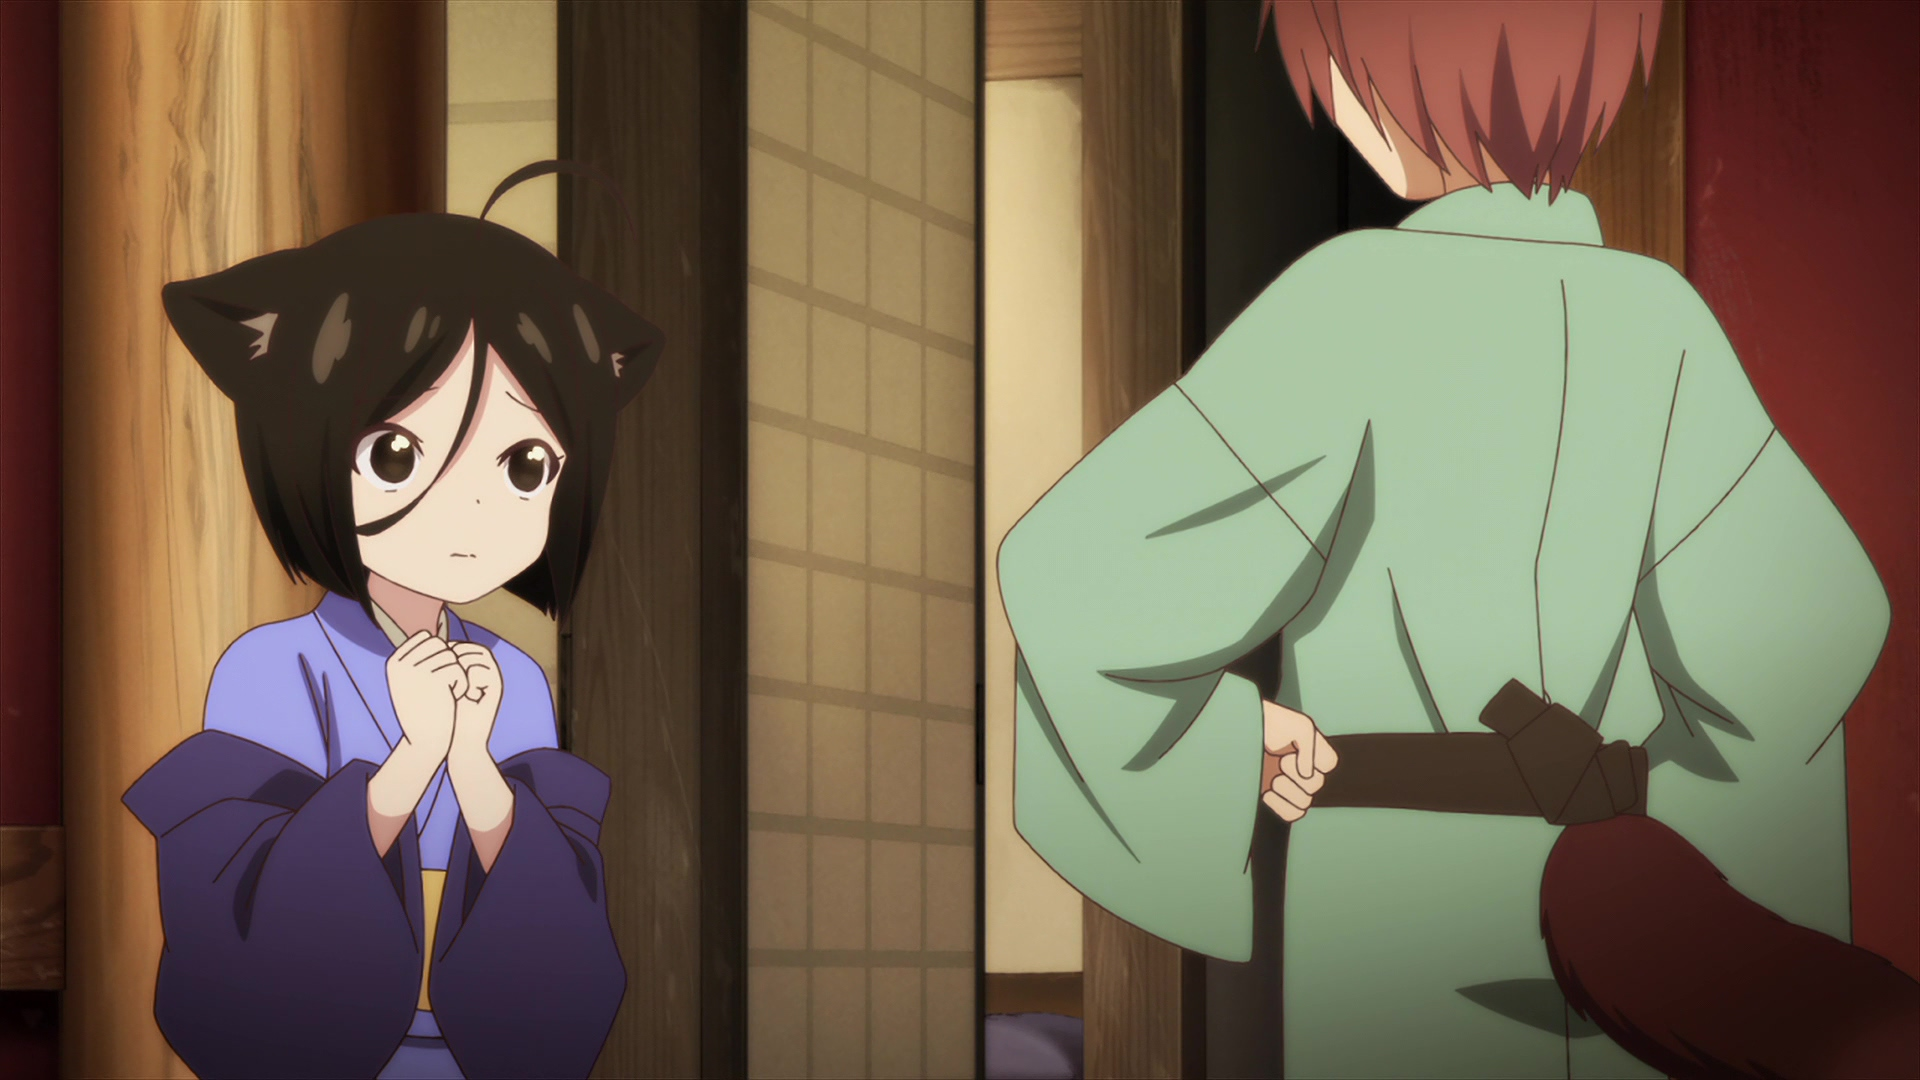其他: (125, 164, 667, 1080)
枣: (994, 1, 1920, 1080)
